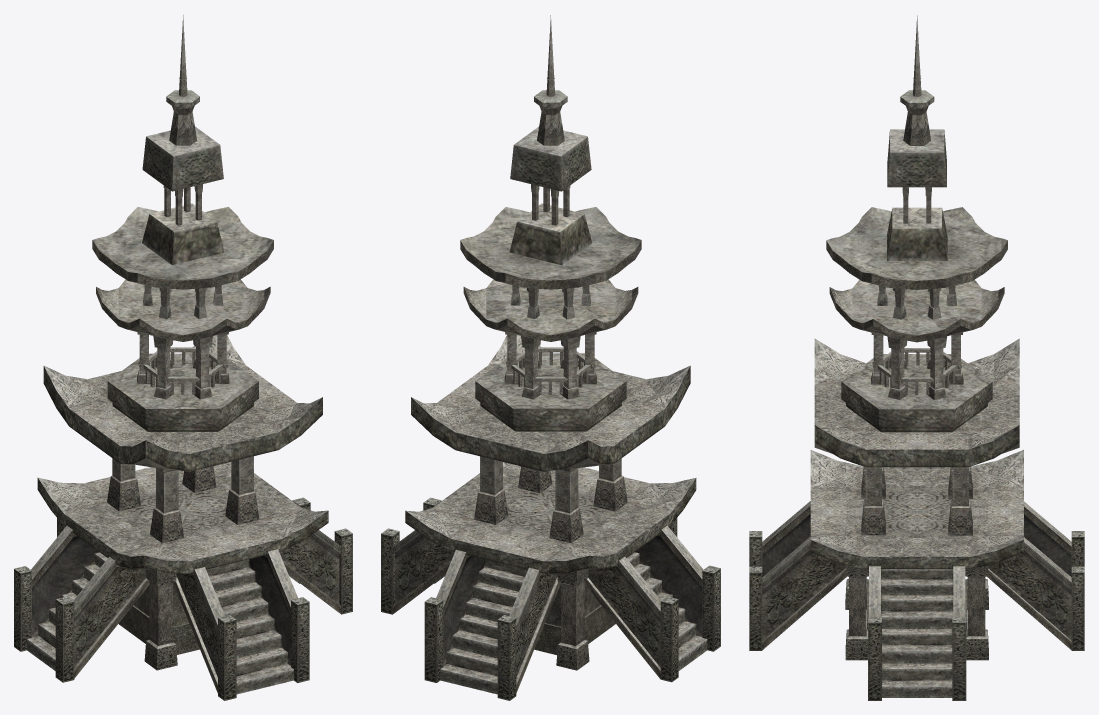
The model's file is a1-037-tower.fbx.
3 renders of one model, left to right at view 1: azimuth 30°, elevation 25°; view 2: azimuth 150°, elevation 25°; view 3: azimuth 270°, elevation 25°, orthographic.
Visible parts, largest first — view 1: Object01; view 2: Object01; view 3: Object01.
Part boxes in pixels (box(x1,y1,x2,y2)): Object01: box(14, 15, 352, 700); Object01: box(381, 15, 720, 700); Object01: box(749, 15, 1084, 700).
Bounding box in the file's own units: 7.64 × 15.49 × 7.64.
